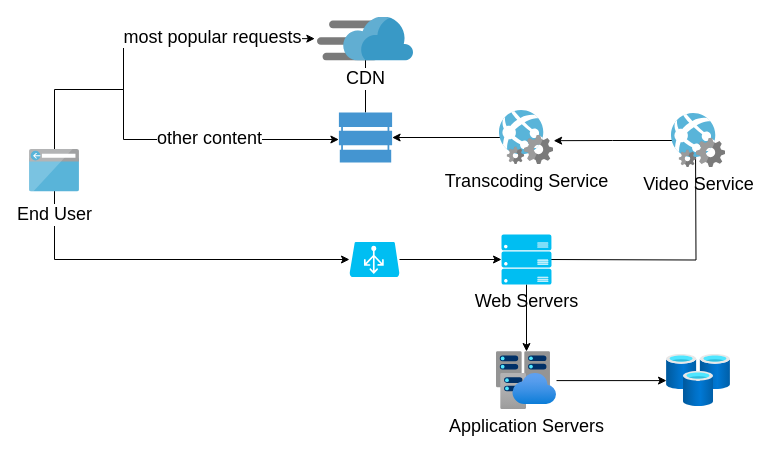
Image size: 784x456. Some labels were removed from this diagram. The centre of each missing label's shape, as x and y in pixels:
"Database shards" goes at [698,380].
"Load Balancer" goes at [374,259].
"Video Servers" goes at [365,137].
